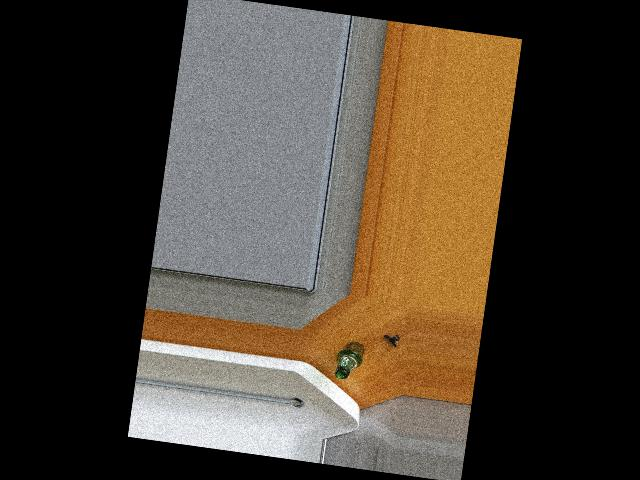beer: (334, 338, 364, 381)
